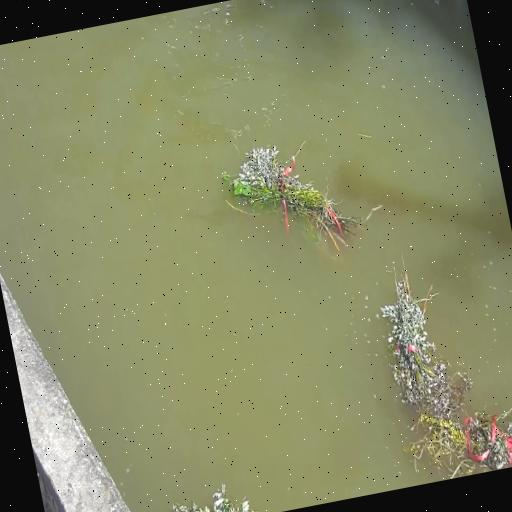twig: (220, 127, 368, 266), (368, 250, 470, 427), (399, 386, 512, 486), (144, 471, 270, 512)
